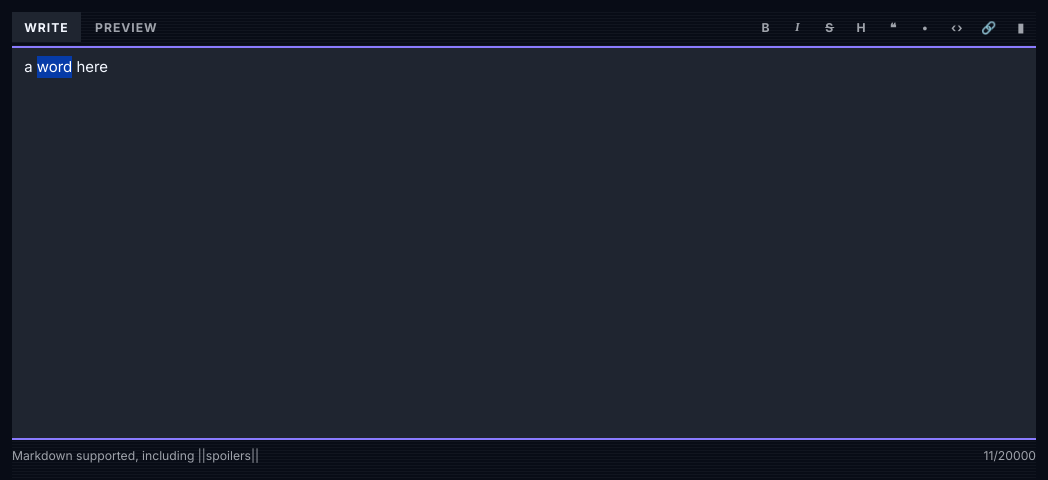
Test: MarkdownEditor › toolbar › leaves the formatted text selected, so a second click compounds
Click the button named "Bold": (766,27) [751, 12, 781, 42]
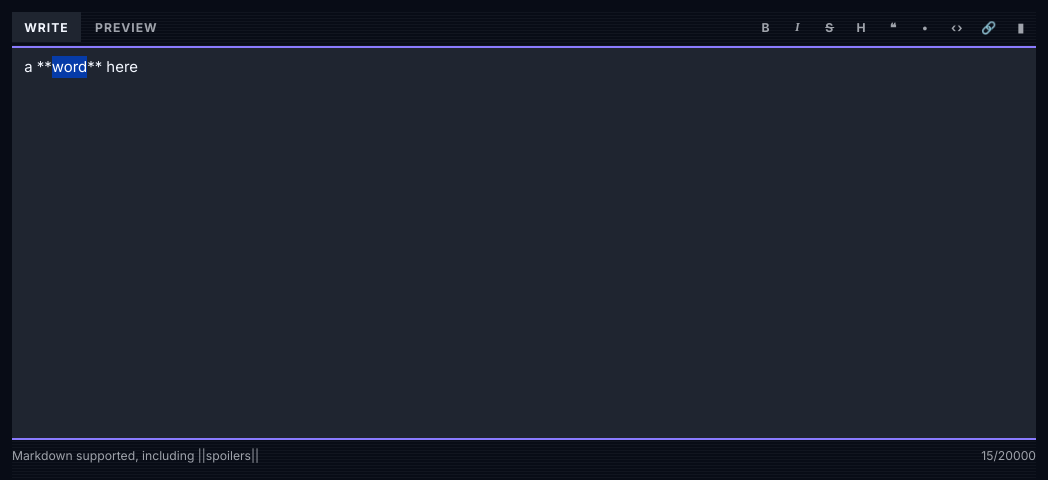
Click the button named "Italic": (798,27) [783, 12, 813, 42]
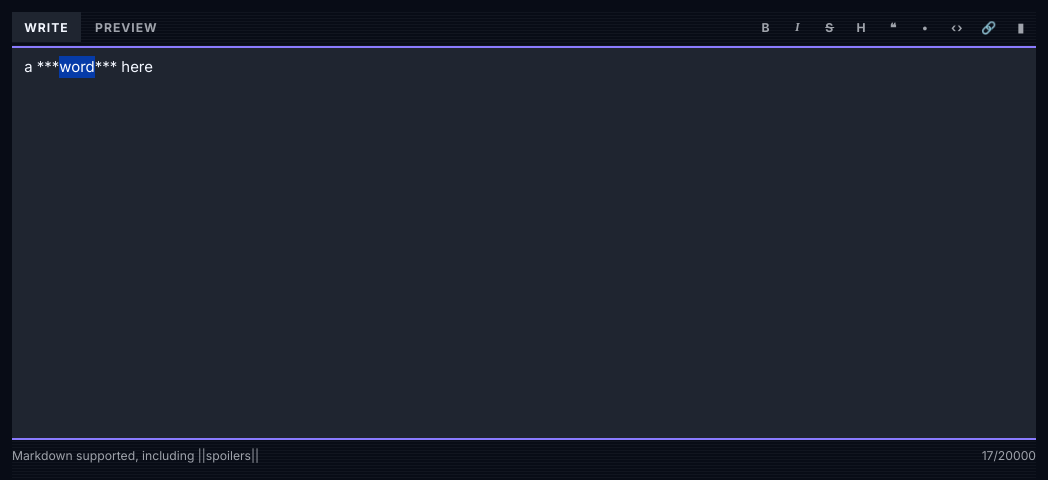
Result: the text box holds "a ***word*** here"
